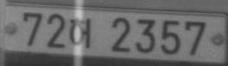2: (111, 16, 131, 52), (46, 13, 65, 48)
3: (134, 18, 156, 53)
5: (160, 19, 181, 55)
7: (184, 20, 206, 56), (22, 12, 42, 46)
허: (68, 15, 91, 48)
